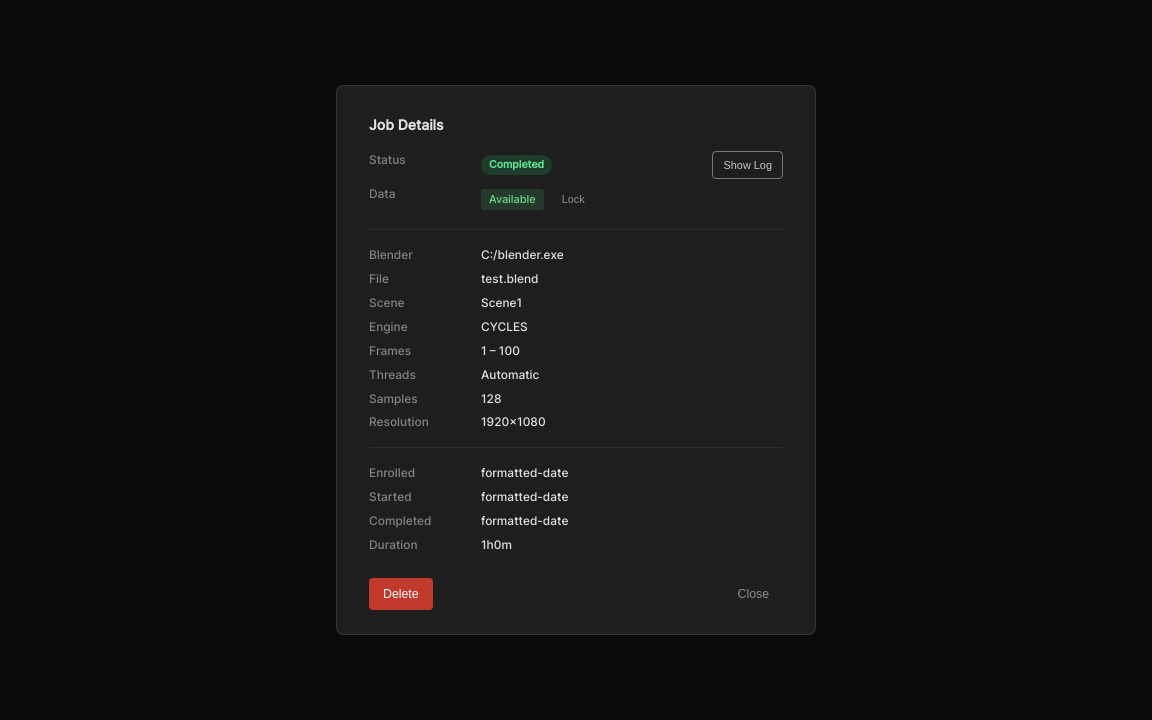
Test: JobDetailDialog › opens delete confirm dialog
Click the button "Delete" at (401, 594), box [369,578,433,610]
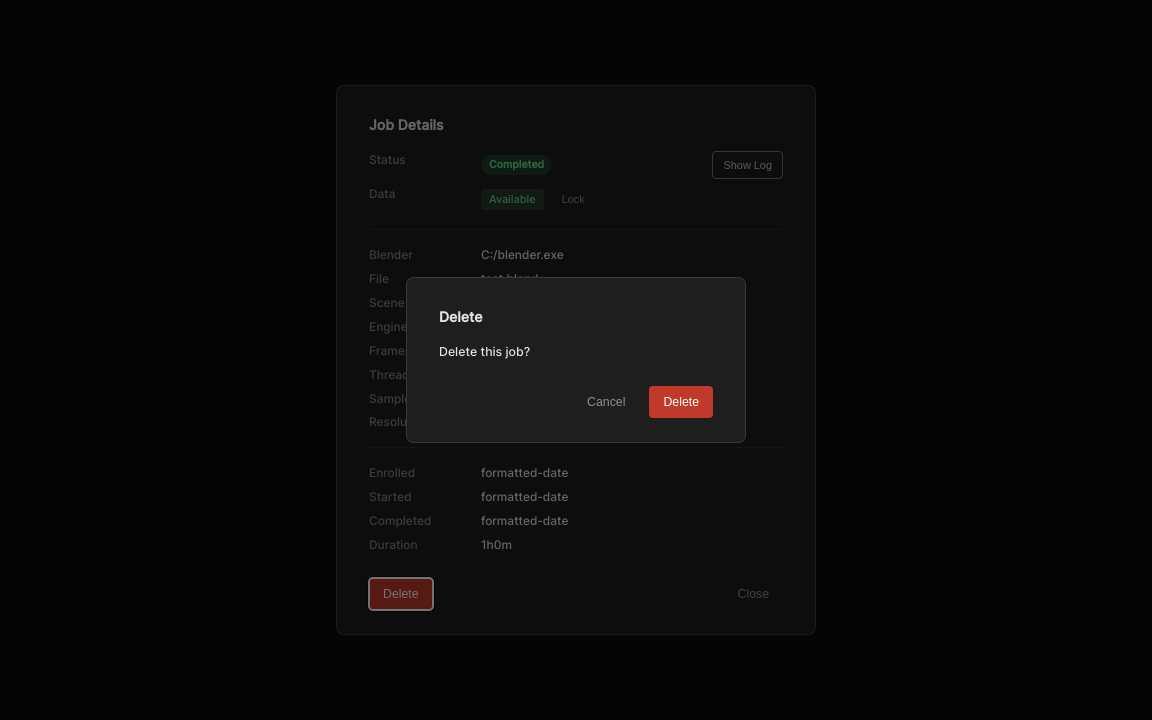
Expected: the text "Delete this job?" is shown, [439,344,530,359]
